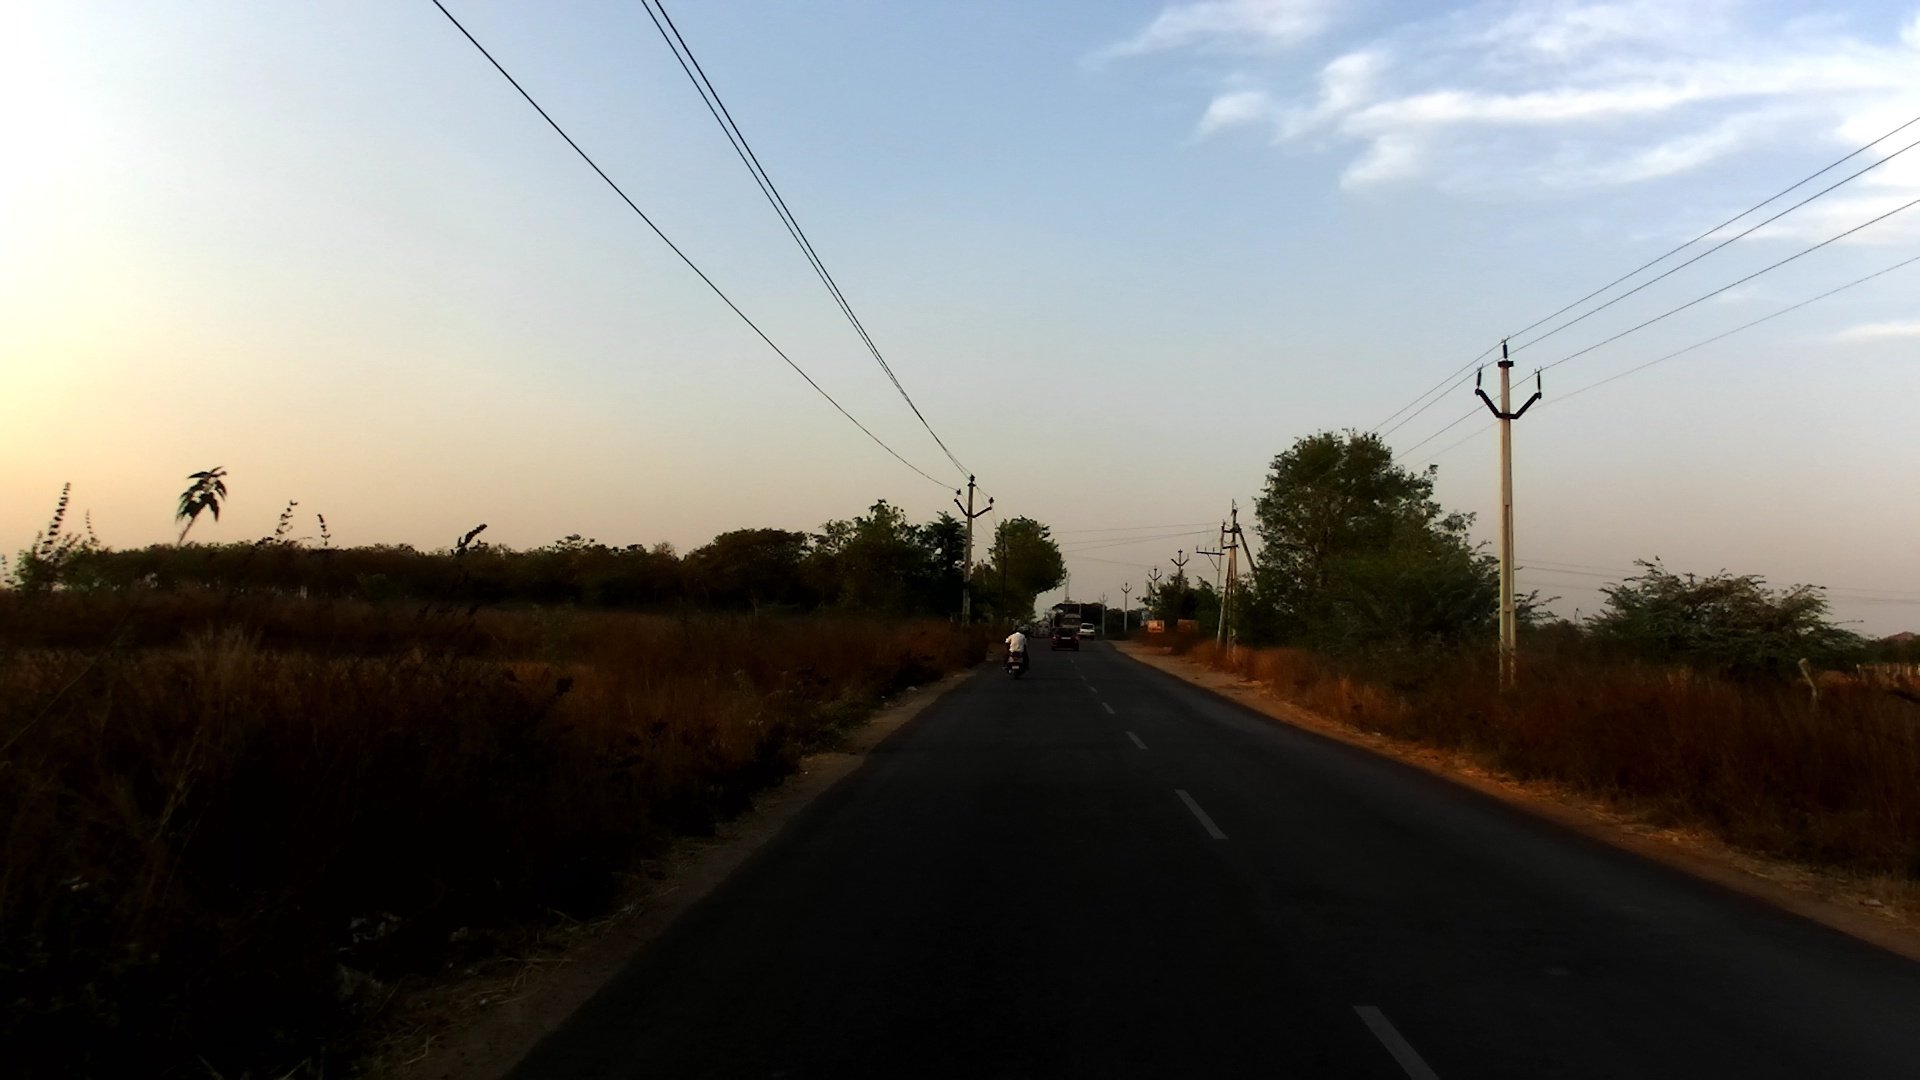bus: (1034, 622, 1050, 639)
car: (1050, 627, 1080, 651), (1081, 623, 1097, 639)
motorcycle: (1002, 634, 1030, 683)
rider: (999, 628, 1034, 673)
truck: (1053, 603, 1085, 632)
